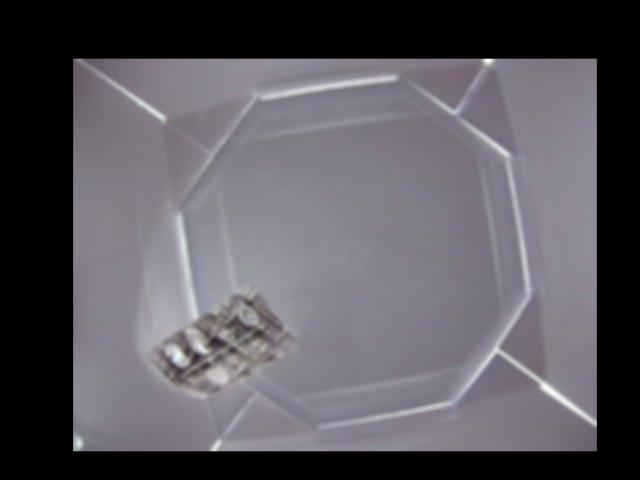Medicine: (150, 285, 294, 397)
